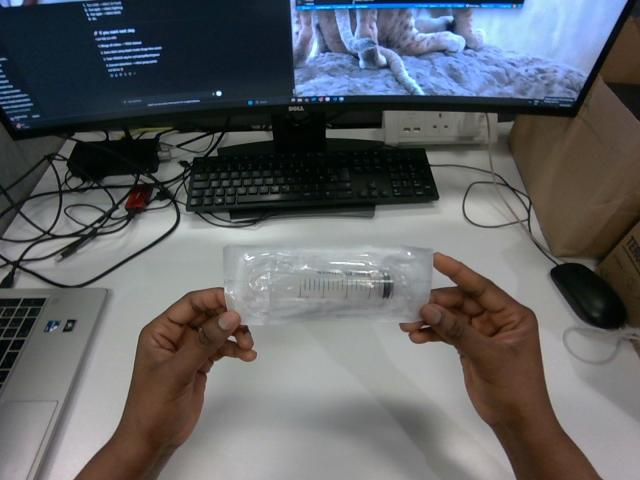syringe: (224, 245, 432, 324)
